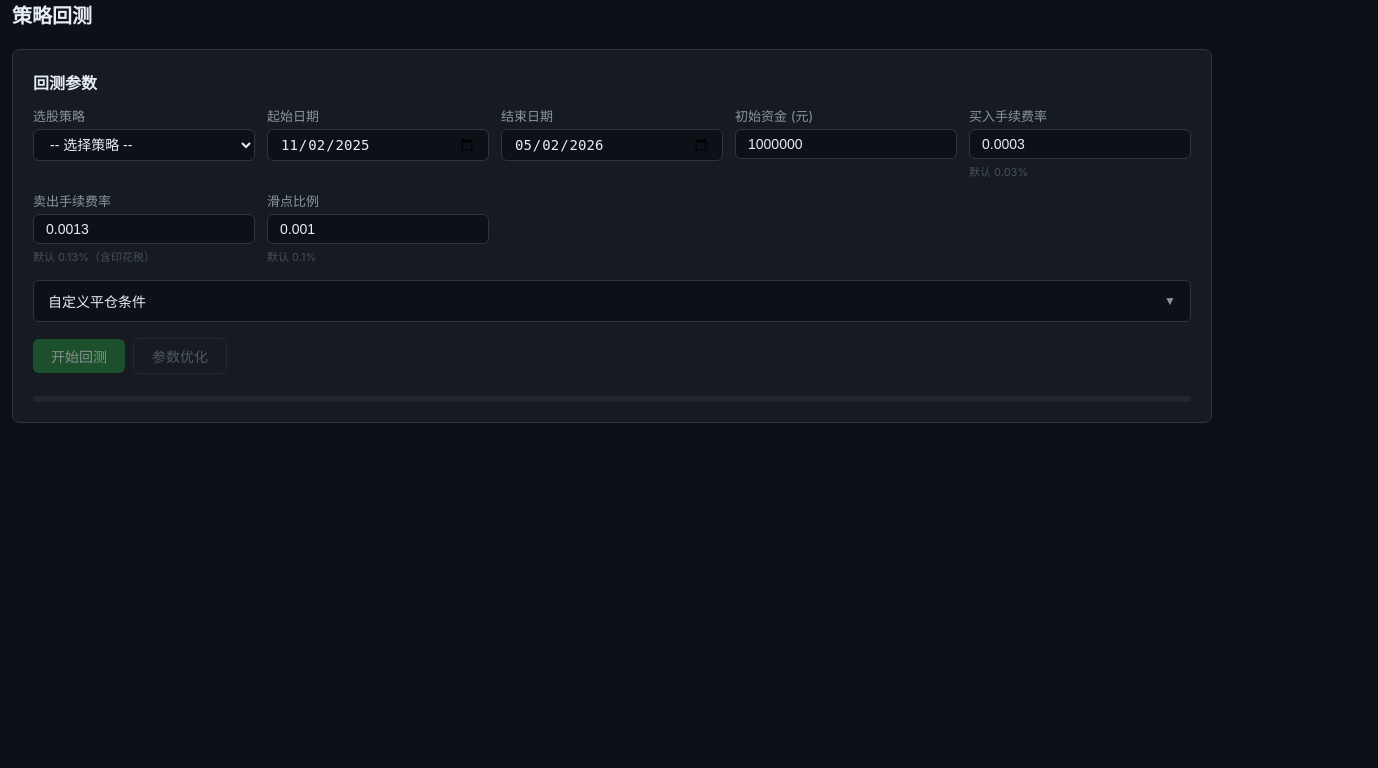
Scenario: BacktestView - 指标使用说明卡片 › 无参数指标（close）不显示参数区域
The image size is (1378, 768).
Click the button "自定义平仓条件 ▼": (97, 302) [34, 281, 1190, 321]
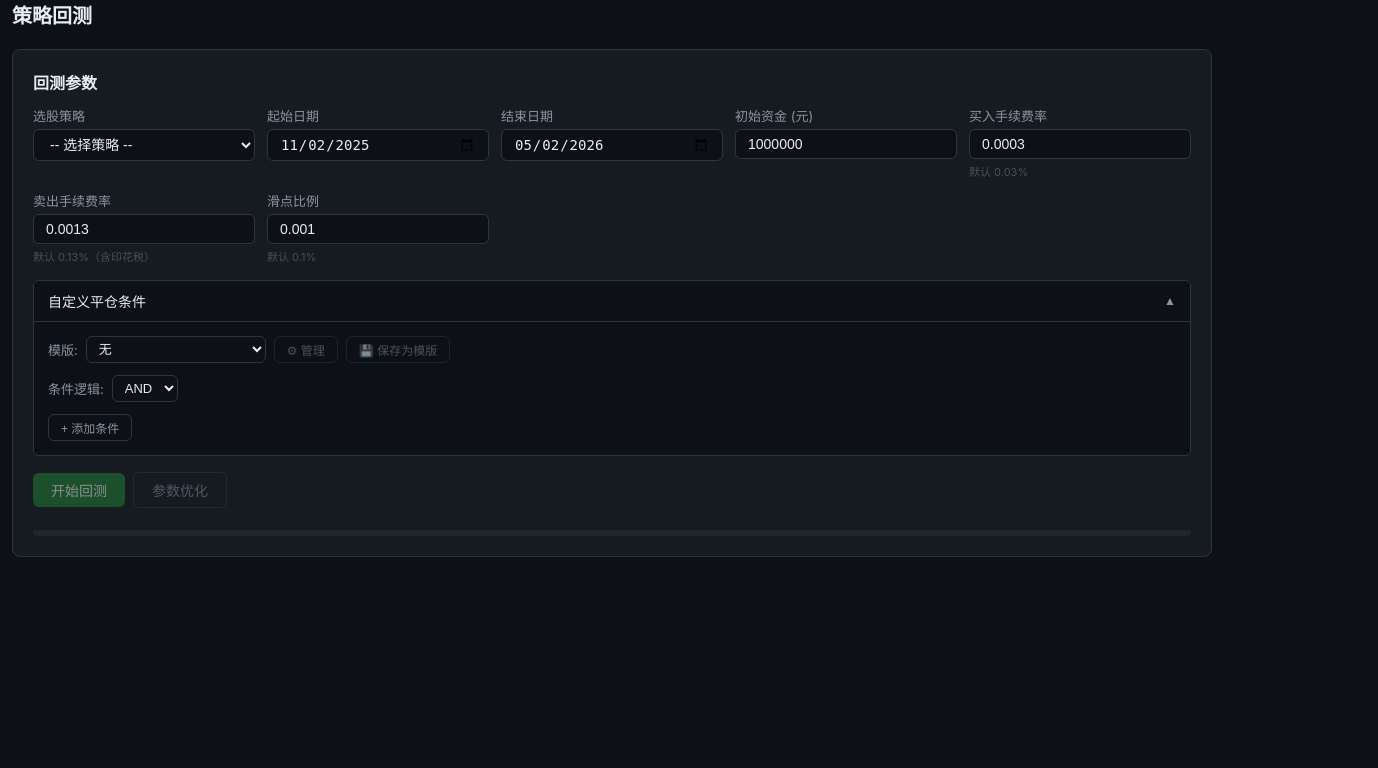
Click the button with aria-label "添加平仓条件": (90, 428) [48, 414, 132, 441]
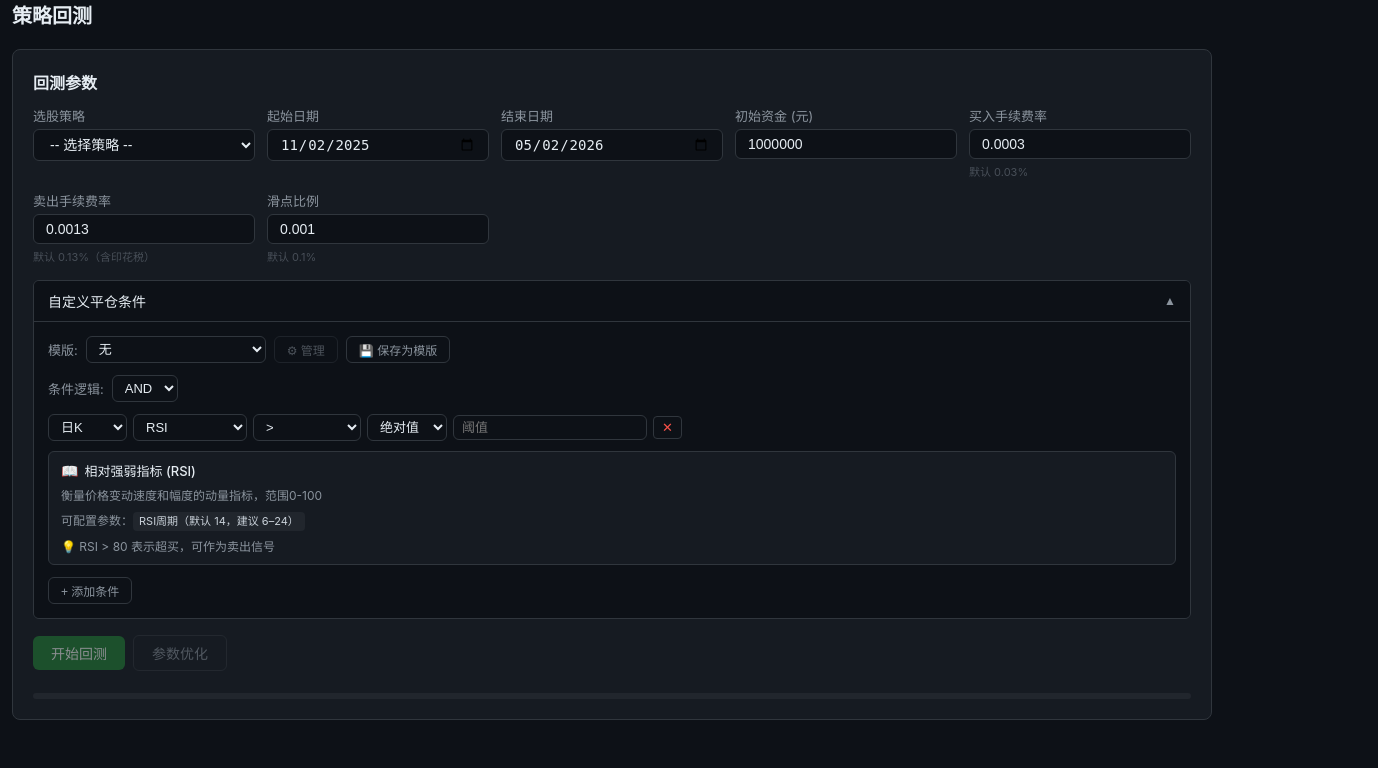
Select "CLOSE" in the dropdown named "条件1指标": (190, 428) [133, 414, 247, 441]
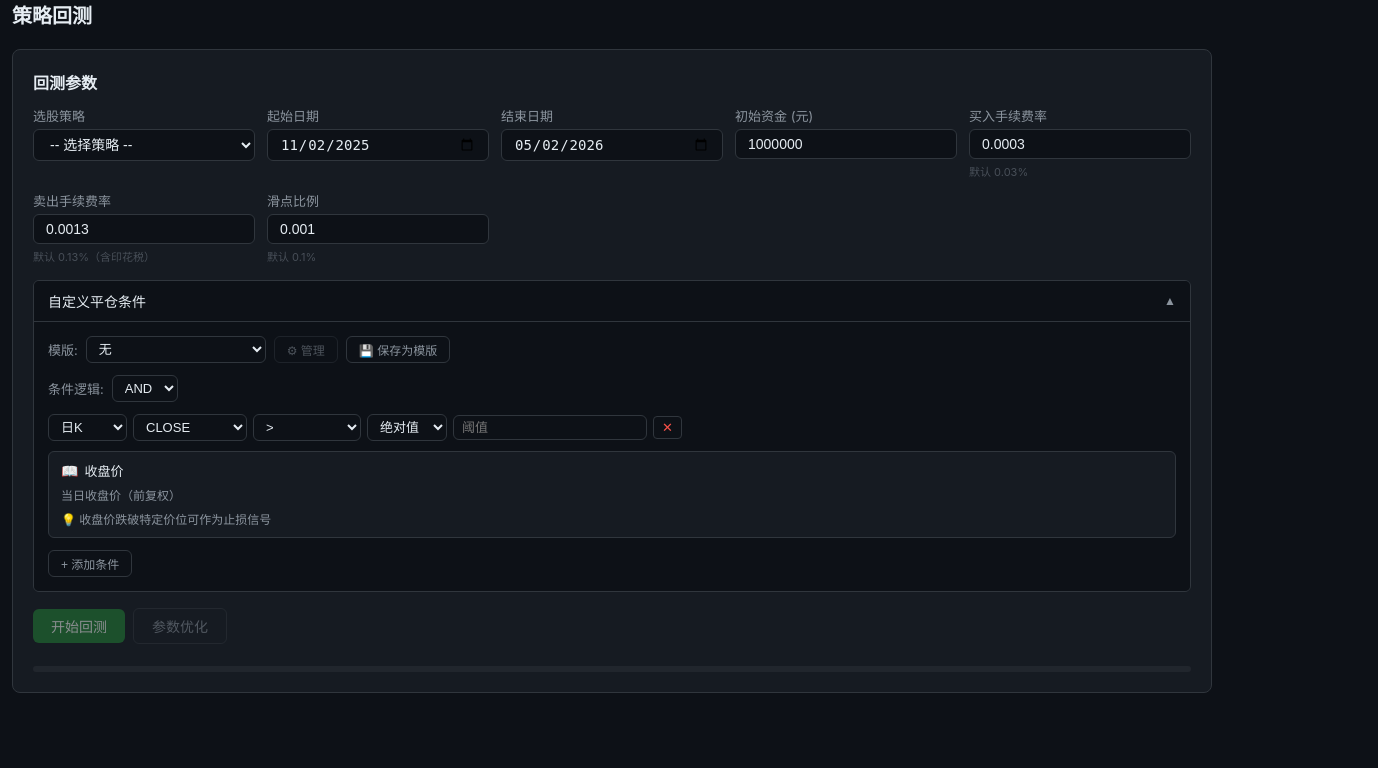
Expected: the element with class "indicator-desc-card" is shown, [48, 451, 1176, 538]
Expected: the text with class "indicator-desc-name" reads "收盘价", [84, 463, 124, 479]
